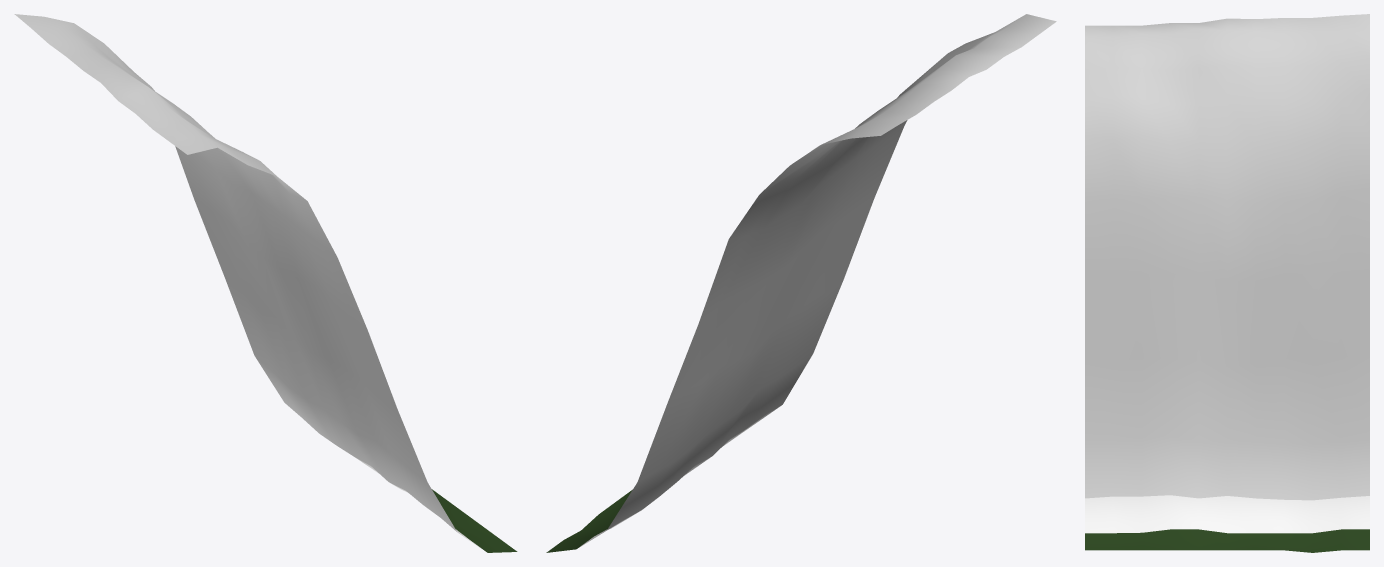
3 views of the same model, side by side, from view 1: azimuth 30°, elevation 25°; view 2: azimuth 150°, elevation 25°; view 3: azimuth 270°, elevation 25° (orthographic). The views are drawn at different scales.
Visible parts, largest first — view 1: TerrainModel.090; view 2: TerrainModel.090; view 3: TerrainModel.090.
Boxes of the visible parts, bbox=[...] form: TerrainModel.090: bbox=[14, 14, 517, 552]; TerrainModel.090: bbox=[546, 14, 1056, 552]; TerrainModel.090: bbox=[1085, 14, 1369, 552].
Size of the model in its own units: 21569 by 30882 by 19608.
